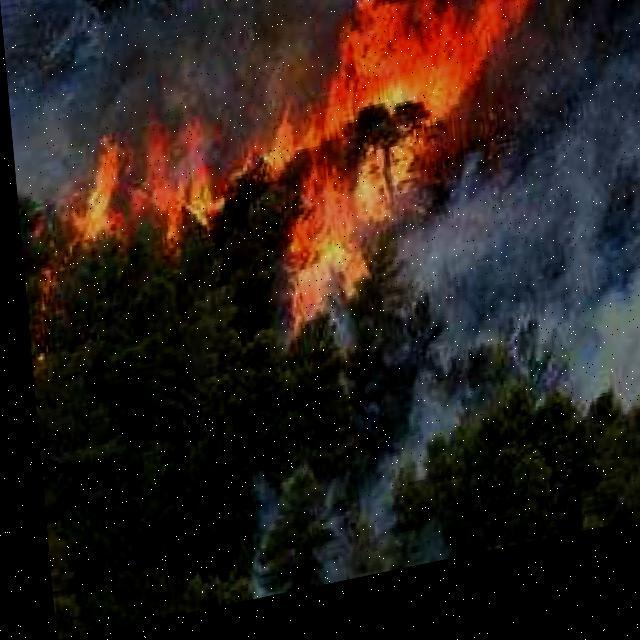Fire: (22, 0, 556, 413)
